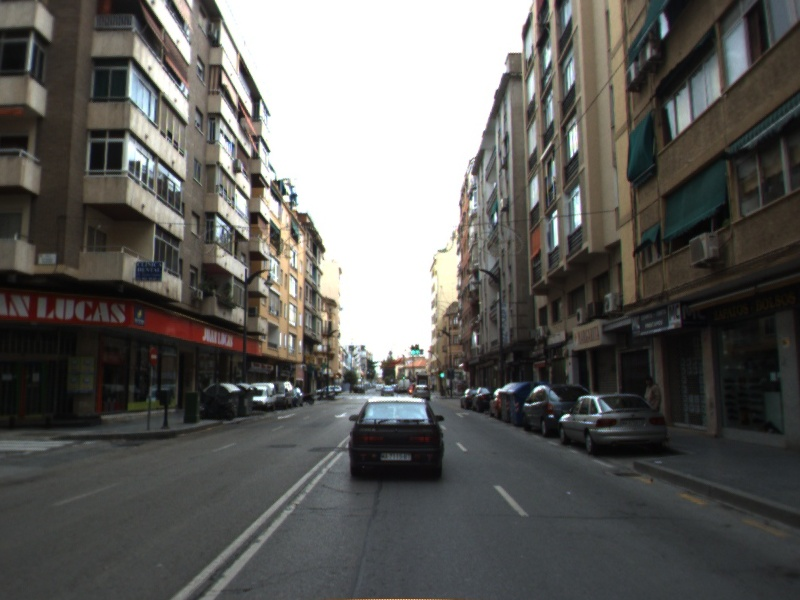RIGHT: (454, 410, 471, 419)
